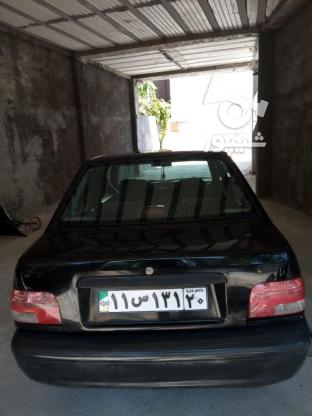car: (93, 285, 208, 315)
